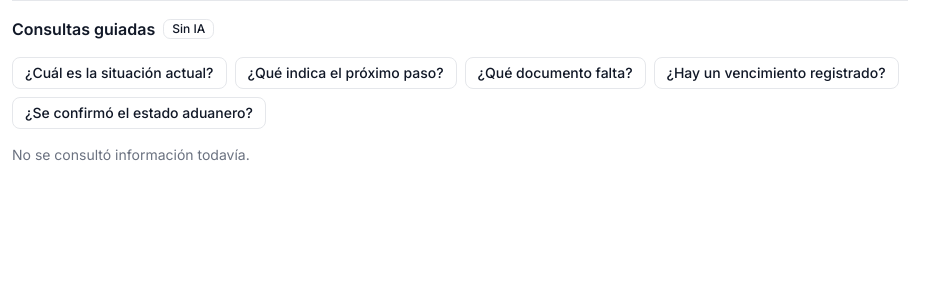
Test: answers only the selected guided query and exposes its source and limits
The width and height of the screenshot is (925, 281).
expect the text "No se consultó información todavía." is shown: met, box [12, 146, 250, 163]
Click the button "¿Se confirmó el estado aduanero?". click: [139, 113]
box: [12, 97, 266, 129]
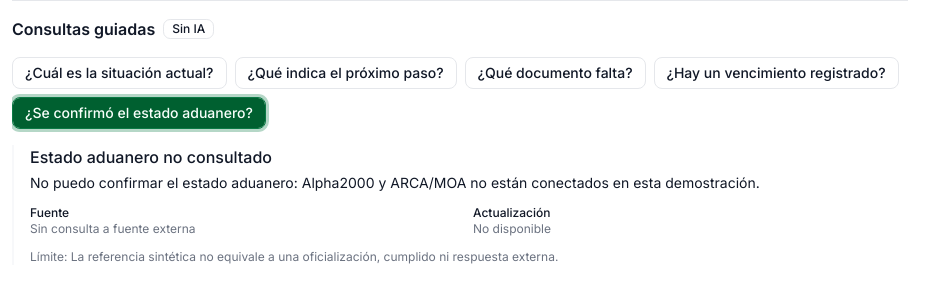
expect the message shows "Alpha2000 y ARCA/MOA no están conectados": met, box [30, 174, 760, 191]
expect the text "Sin consulta a fuente externa" is shown: met, box [30, 221, 196, 236]
expect the text "No disponible" is shown: met, box [473, 221, 551, 236]
